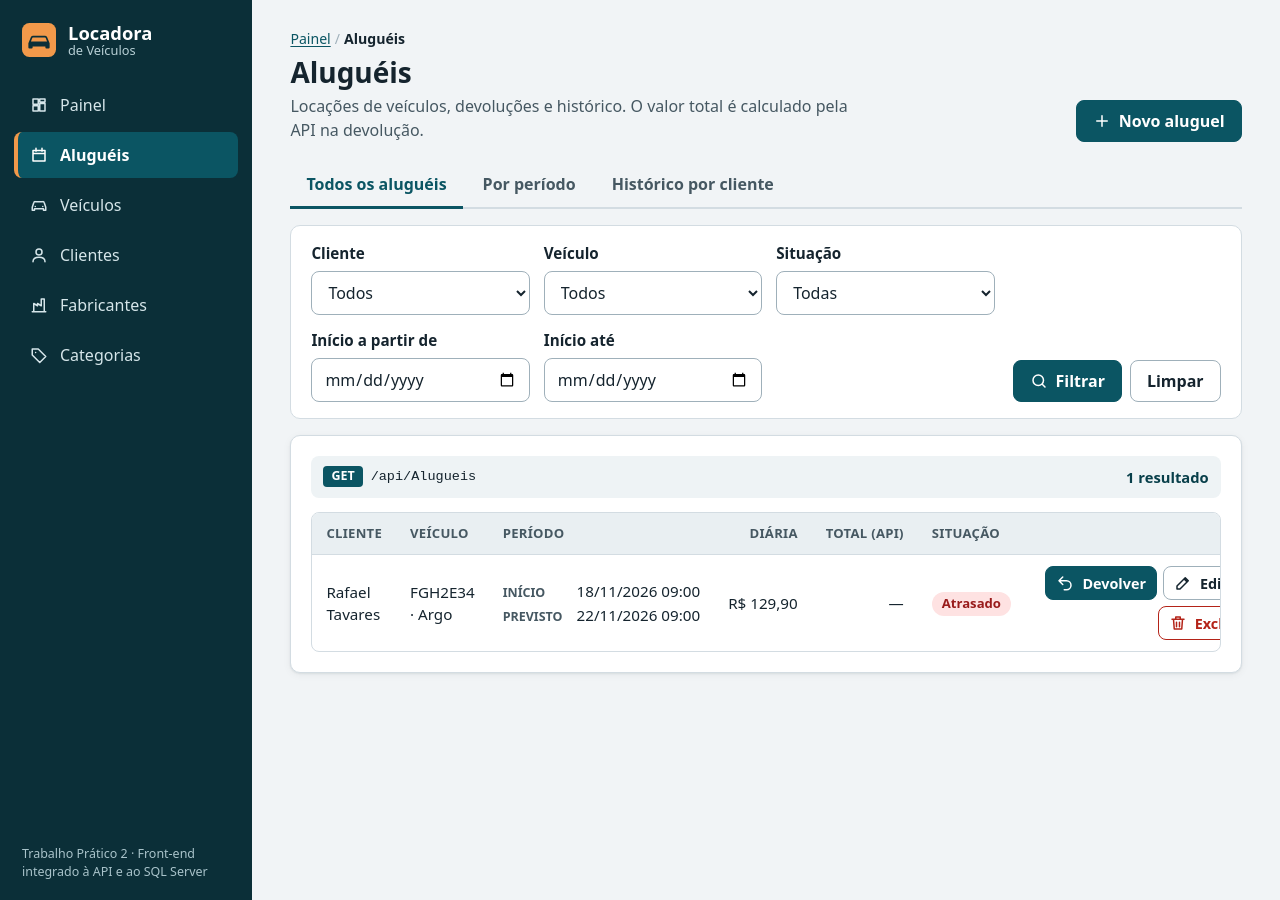
Test case: Aluguéis — devolução › mostra o erro da API dentro da janela de devolução
Click the button with aria-label "Registrar devolução do aluguel 16".
click(1101, 584)  # box [1045,566,1157,600]
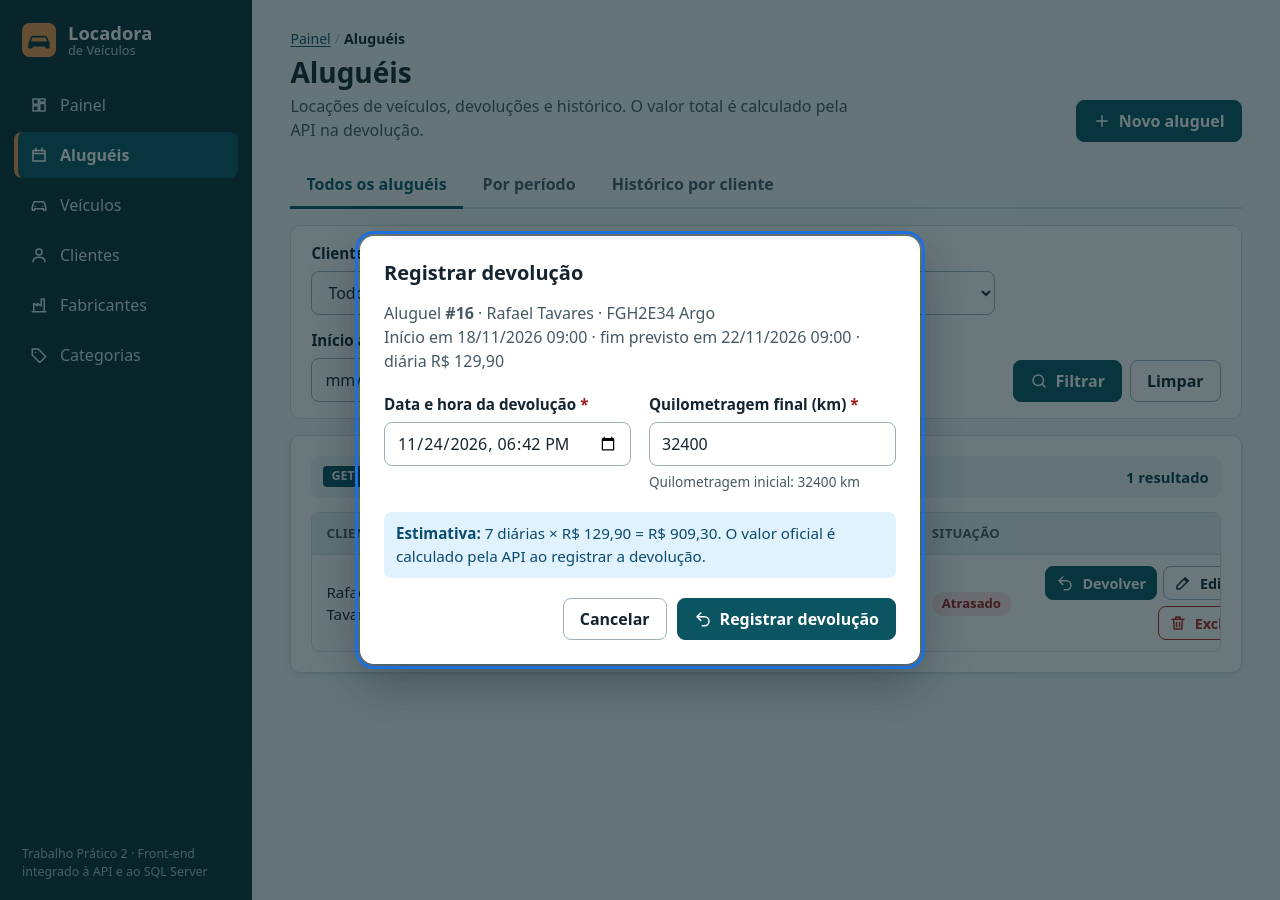
Expected: the number field labelled "Quilometragem final (km) *" is shown, [649,422,896,466]
Click the button "Registrar devolução".
click(786, 619)  # box [677,598,896,640]
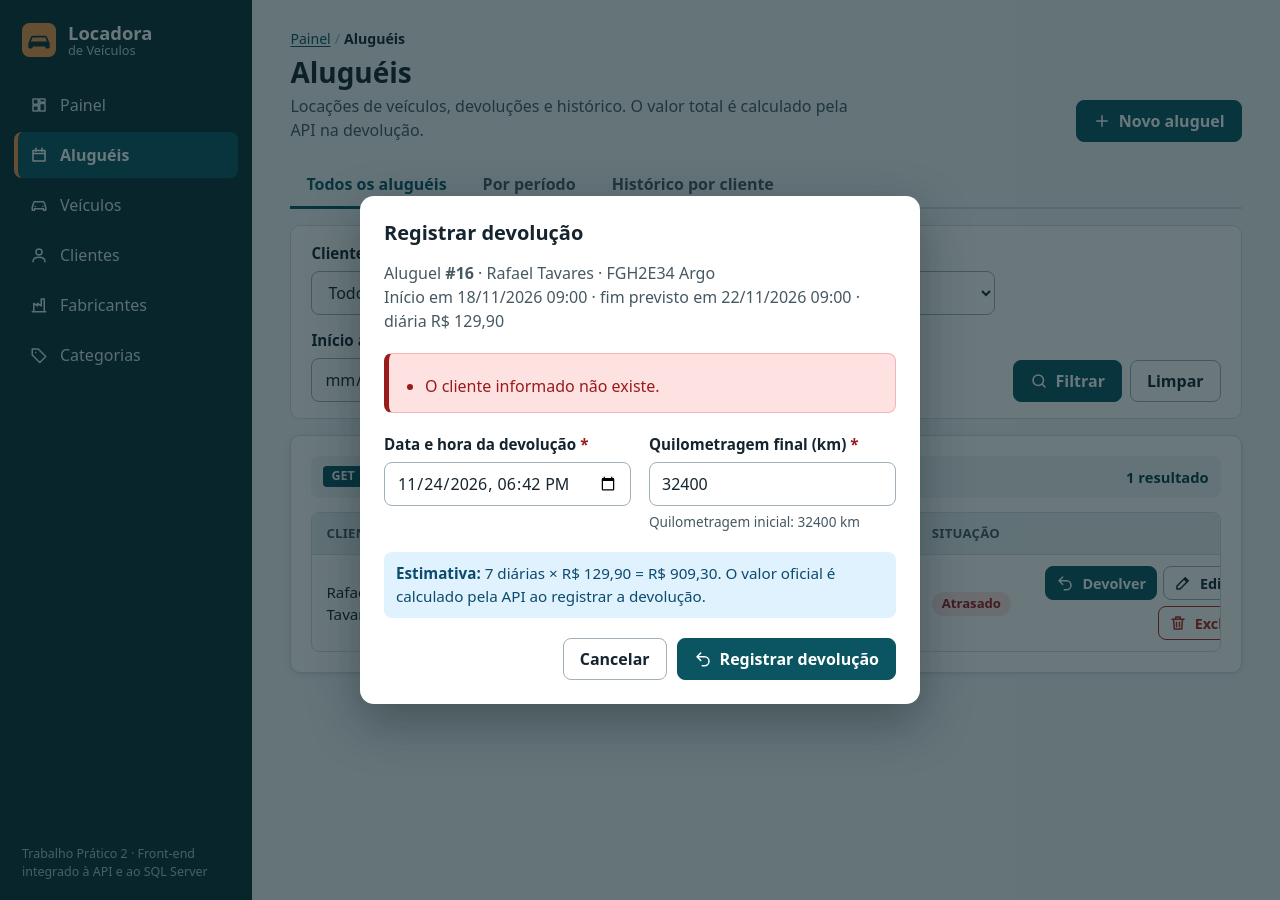
Expected: the message reads "O cliente informado não existe.", [425,375,660,397]
